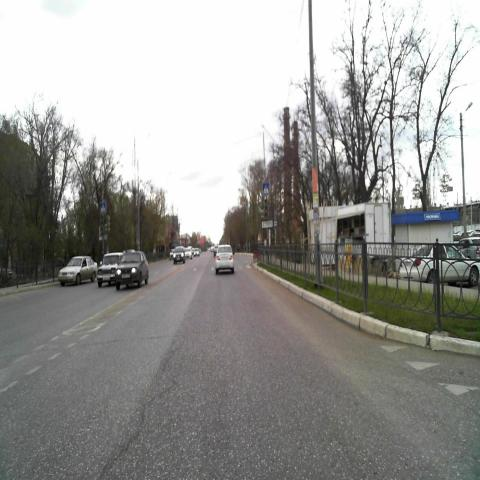5_19_1: (262, 182, 270, 194), (100, 201, 106, 213)
6_16: (262, 220, 272, 228)
